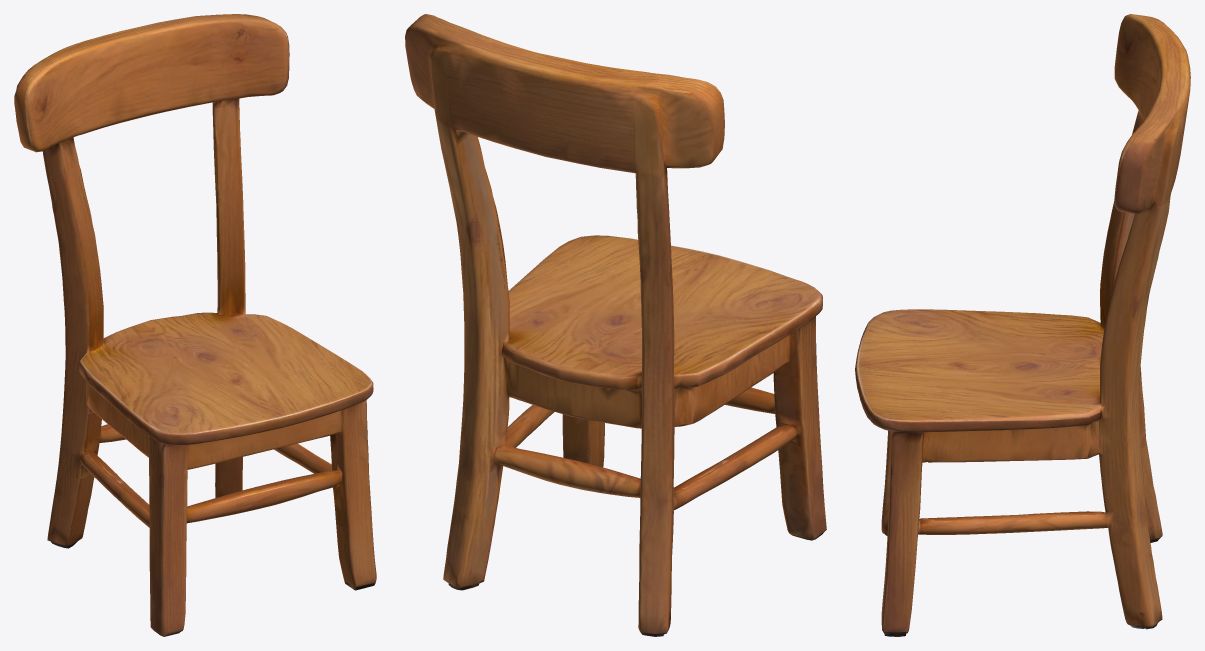
The model's file is wood chair.glb.
The picture shows the model from 3 angles, left to right: view 1: azimuth 30°, elevation 25°; view 2: azimuth 150°, elevation 25°; view 3: azimuth 270°, elevation 25°; orthographic projection. The views are drawn at different scales.
Size of the model in its own units: 1.16 by 2 by 1.19.
Materials: 1 (1 with a texture image).
